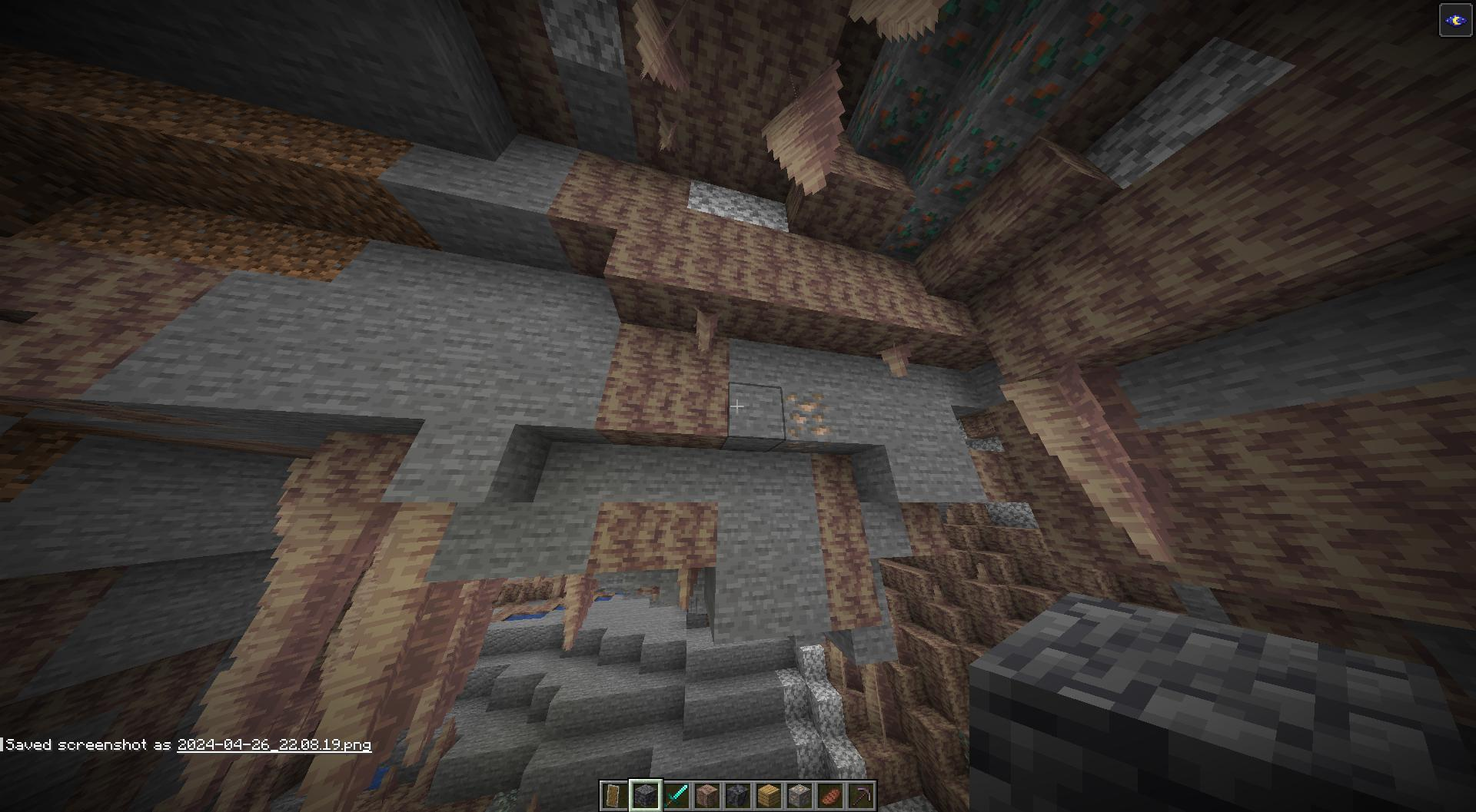iron ore: (781, 391, 834, 449)
